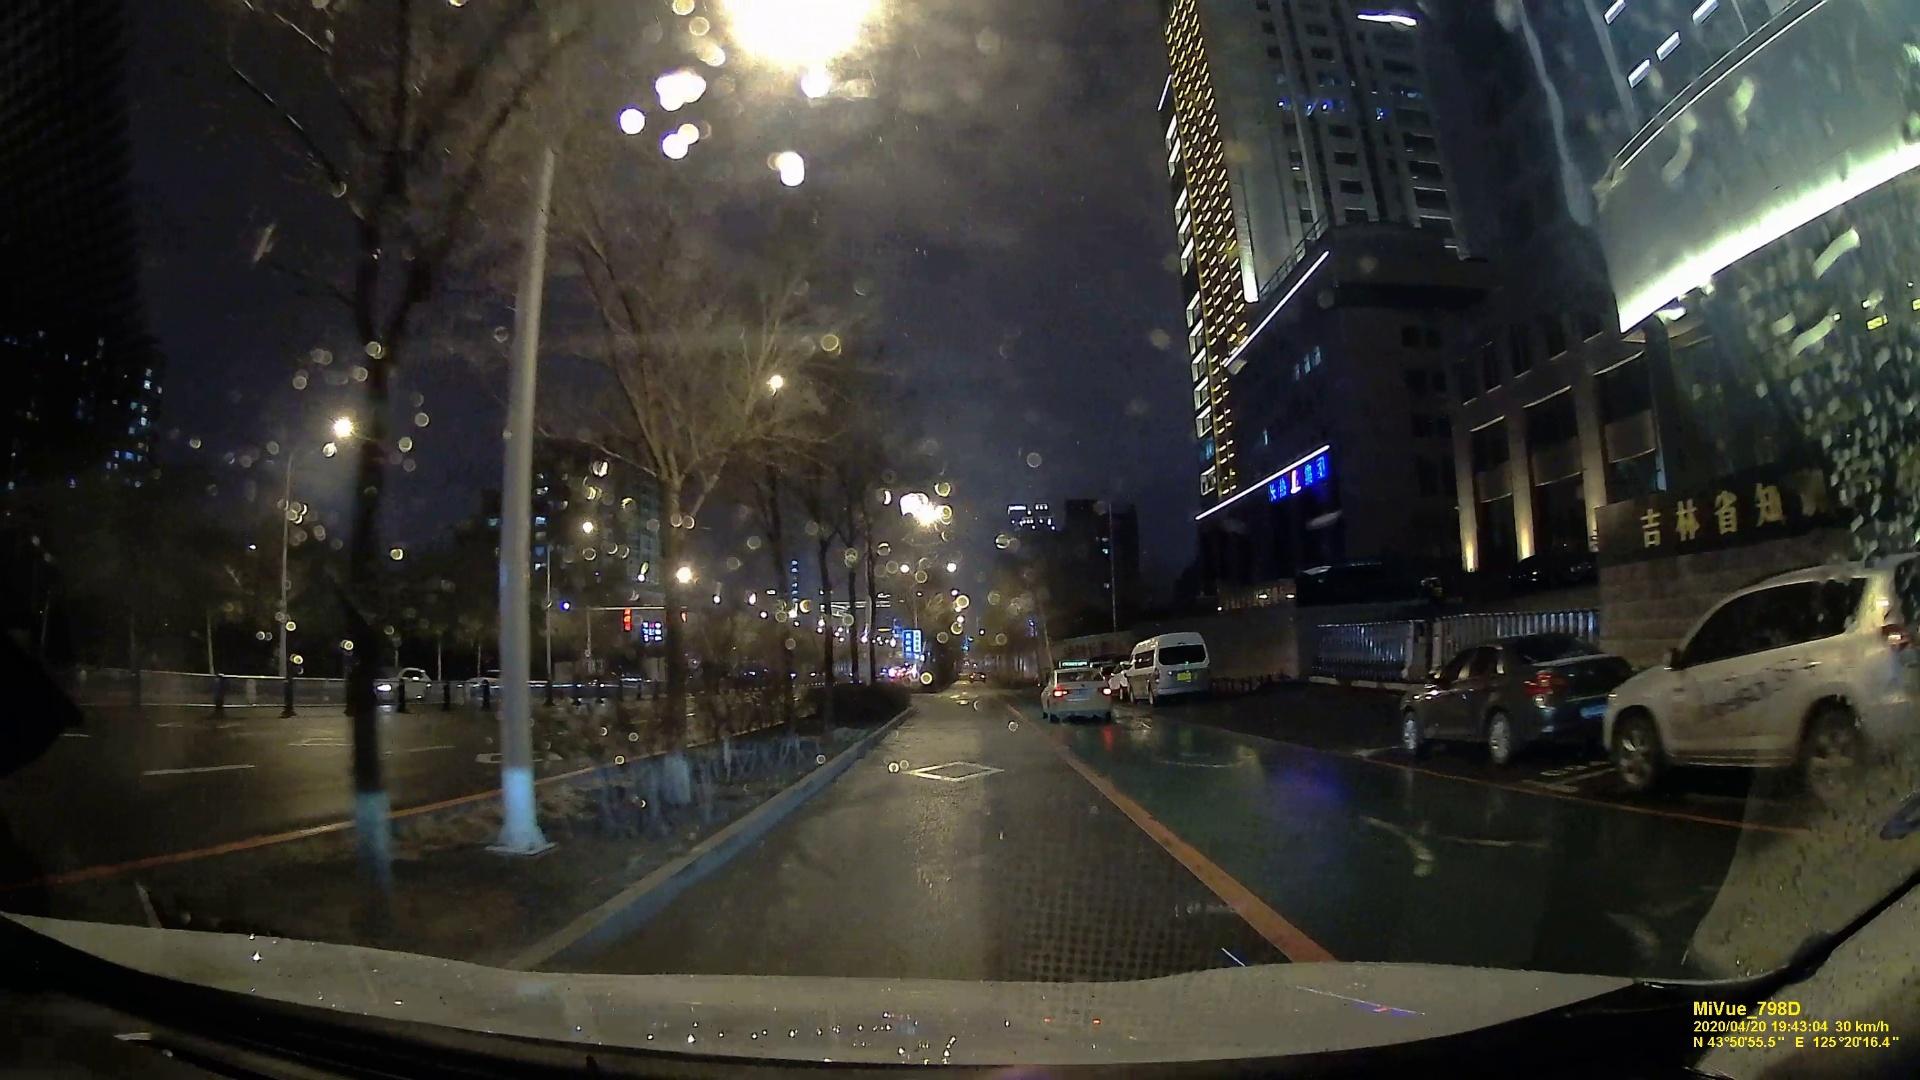minibus: (1124, 633, 1215, 708)
vehicle: (1610, 562, 1908, 796), (1398, 625, 1598, 758), (1040, 666, 1114, 723)
